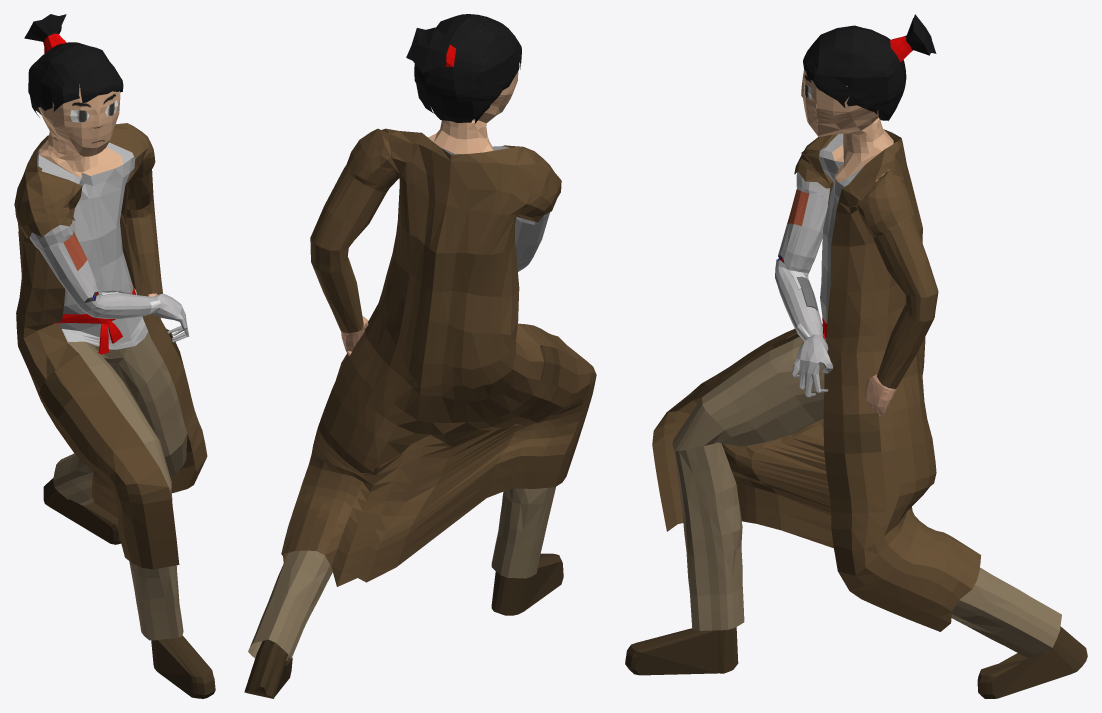
File: One_RL_000001.obj
3 renders of one model, left to right at view 1: azimuth 30°, elevation 25°; view 2: azimuth 150°, elevation 25°; view 3: azimuth 270°, elevation 25°, orthographic. The views are drawn at different scales.
Visible parts, largest first — view 1: Hair_Cube.004; view 2: Hair_Cube.004; view 3: Hair_Cube.004.
Part boxes in pixels (x1,y1,x2,y2): Hair_Cube.004: [14, 14, 215, 698]; Hair_Cube.004: [244, 14, 596, 698]; Hair_Cube.004: [625, 14, 1087, 698].
Size of the model in its own units: 1.22 by 3.48 by 2.28.
